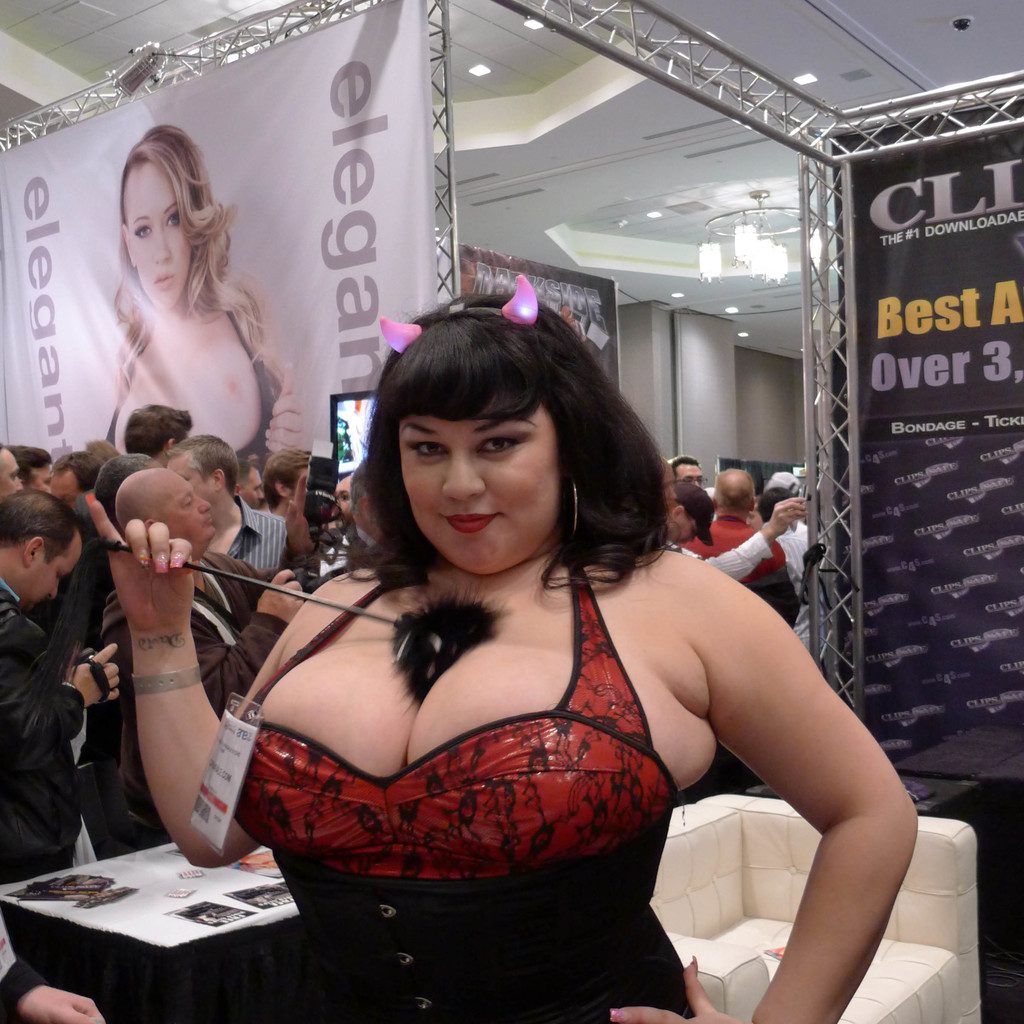person: (692, 467, 804, 625)
